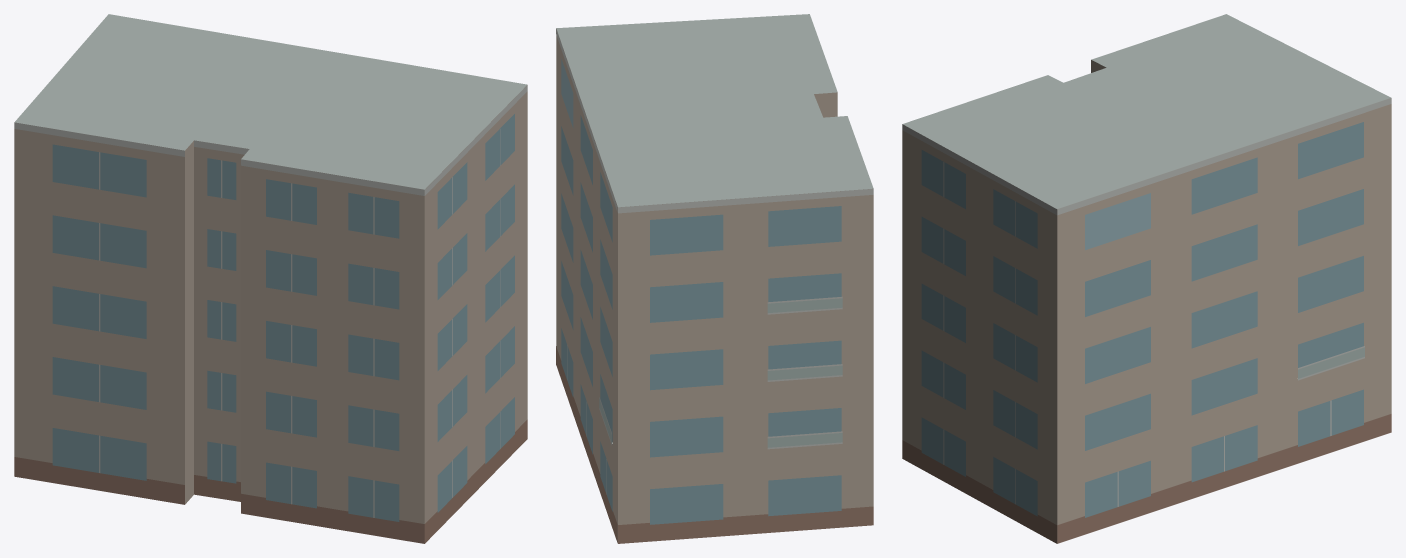
Rendered from survey-upis-32746236.glb.
3 views of the same model, side by side, from view 1: azimuth 30°, elevation 25°; view 2: azimuth 150°, elevation 25°; view 3: azimuth 270°, elevation 25° (orthographic). The views are drawn at different scales.
Visible parts, largest first — view 1: survey-upis-32746236.tmp; view 2: survey-upis-32746236.tmp; view 3: survey-upis-32746236.tmp.
Boxes of the visible parts, x1,y1,x2,y2 form: survey-upis-32746236.tmp: (14, 14, 527, 543); survey-upis-32746236.tmp: (556, 14, 873, 543); survey-upis-32746236.tmp: (902, 14, 1391, 543).
Size of the model in its own units: 16.79 by 13.41 by 17.78.
